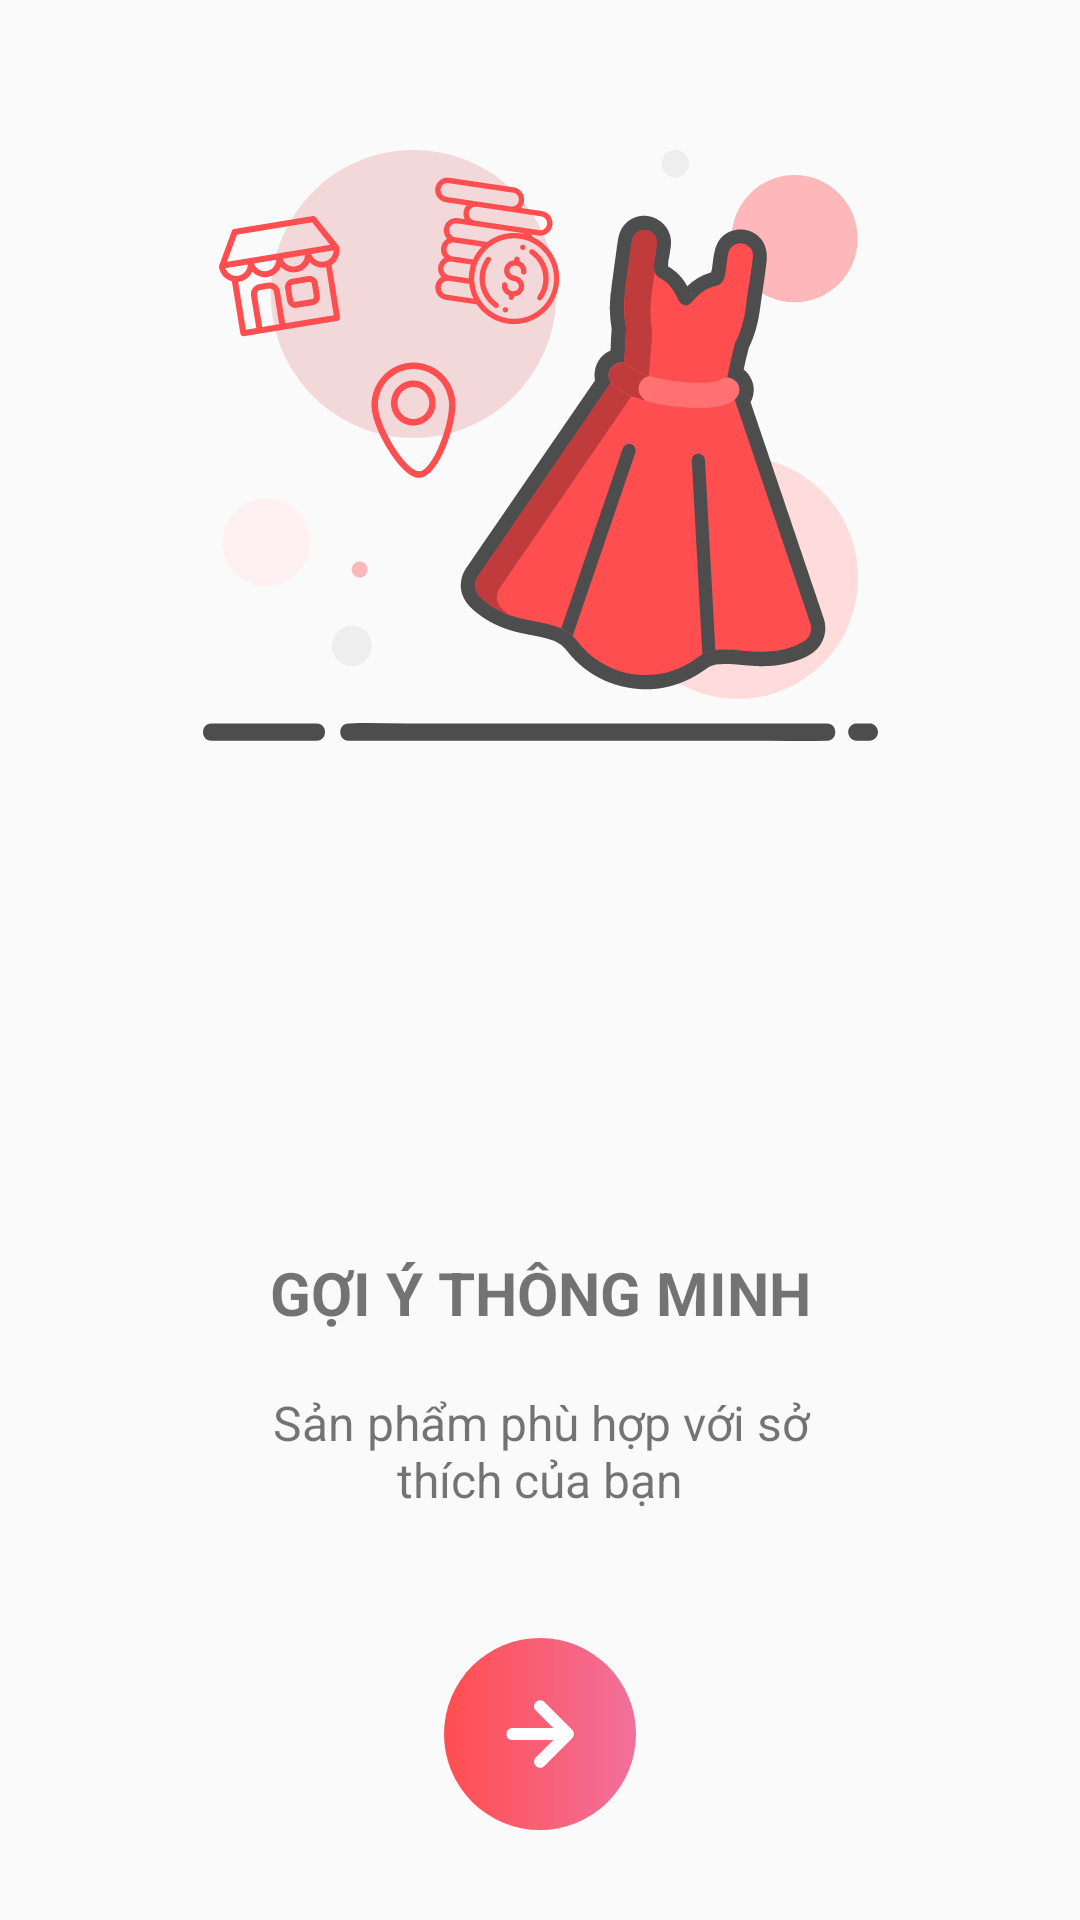

Where to tap for icons on this 1080w x 1920h app screen, as (x,y):
arrow right: (540,1734)
